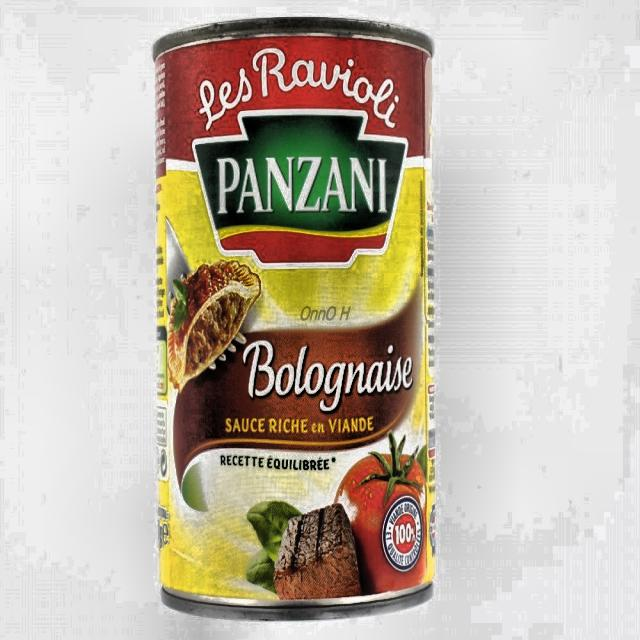Cans: (158, 23, 438, 605)
